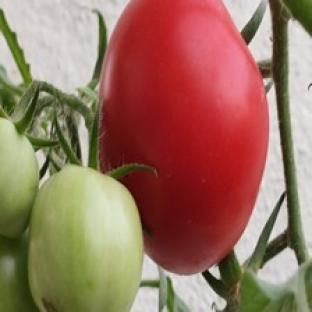Tomato: (28, 166, 143, 311), (0, 119, 38, 238), (0, 234, 37, 311)
